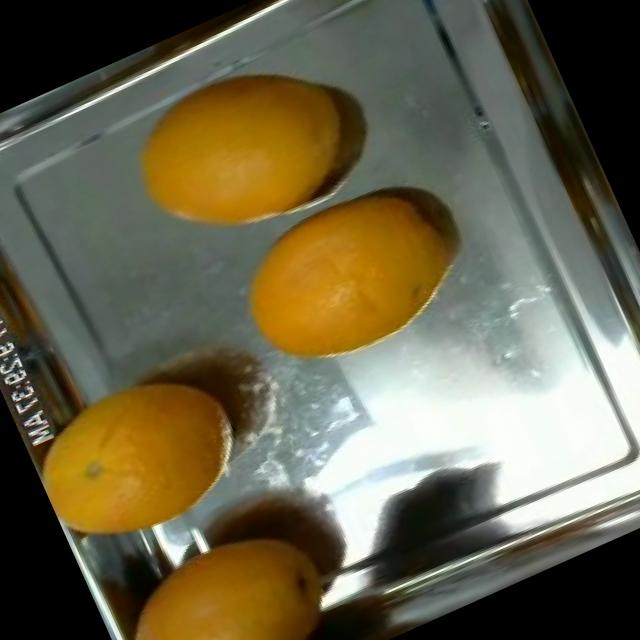Fruit: (96, 35, 348, 274), (12, 332, 266, 564), (204, 182, 432, 402)
